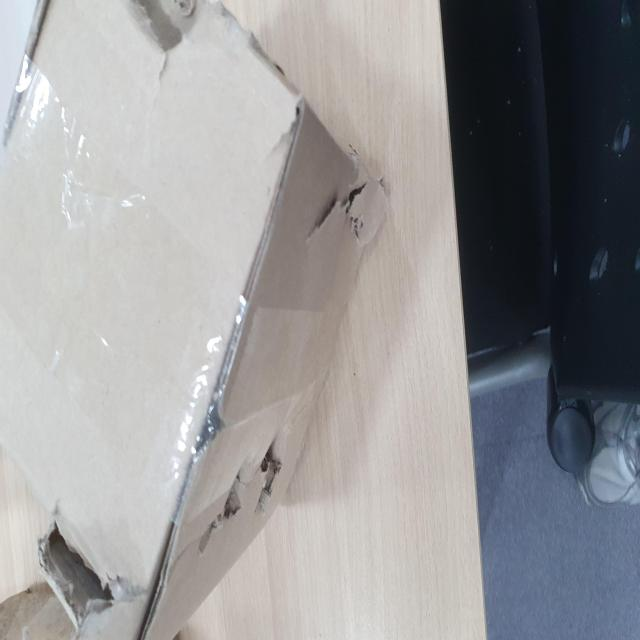damaged: (51, 375, 120, 517), (11, 79, 70, 211), (225, 540, 263, 640)
